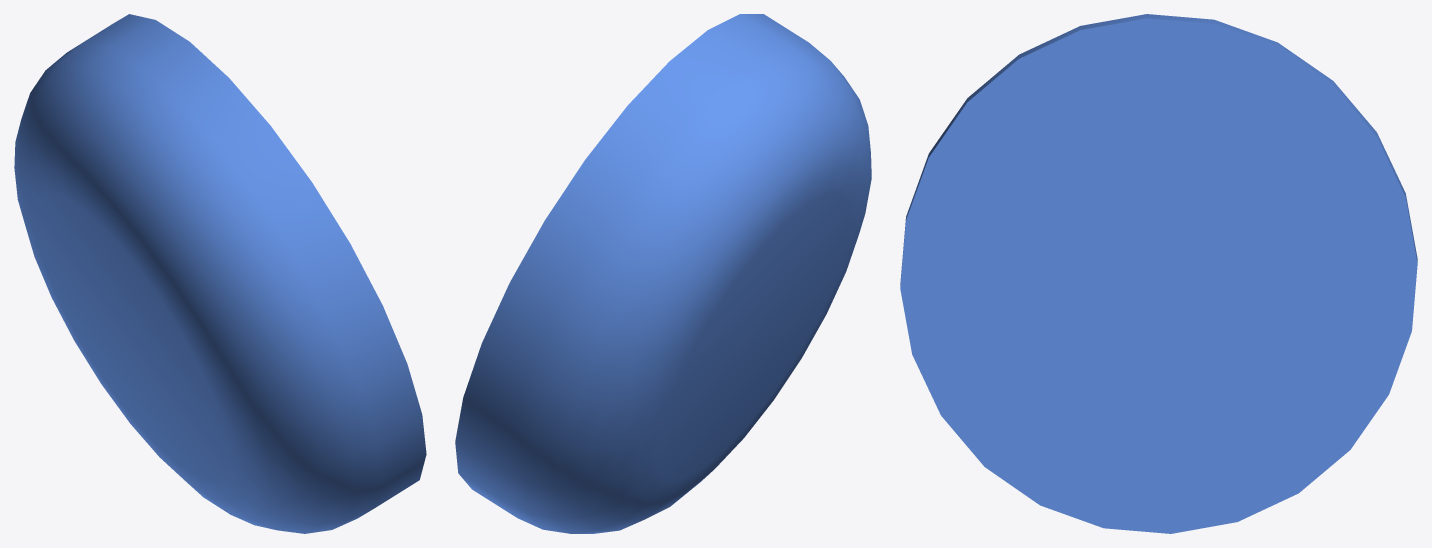
The model's file is original-11.obj.
3 views of the same model, side by side, from view 1: azimuth 30°, elevation 25°; view 2: azimuth 150°, elevation 25°; view 3: azimuth 270°, elevation 25° (orthographic). The views are drawn at different scales.
Visible parts, largest first — view 1: Component_3_4/Component_3_1_2/mesh20/mesh20-geometry#mesh20-geom; view 2: Component_3_4/Component_3_1_2/mesh20/mesh20-geometry#mesh20-geom; view 3: Component_3_4/Component_3_1_2/mesh20/mesh20-geometry#mesh20-geom.
Boxes of the visible parts, box(x1,y1,x2,y2) form: Component_3_4/Component_3_1_2/mesh20/mesh20-geometry#mesh20-geom: box(14, 14, 426, 533); Component_3_4/Component_3_1_2/mesh20/mesh20-geometry#mesh20-geom: box(455, 14, 871, 533); Component_3_4/Component_3_1_2/mesh20/mesh20-geometry#mesh20-geom: box(900, 14, 1417, 533).
Size of the model in its own units: 0.012 by 0.0208 by 0.0211.
